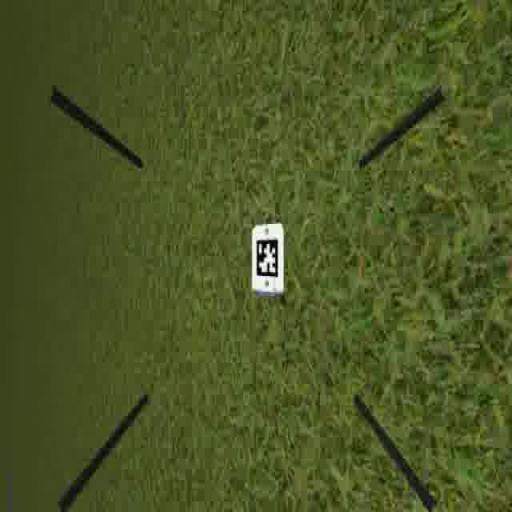UGV: (250, 222, 288, 300)
